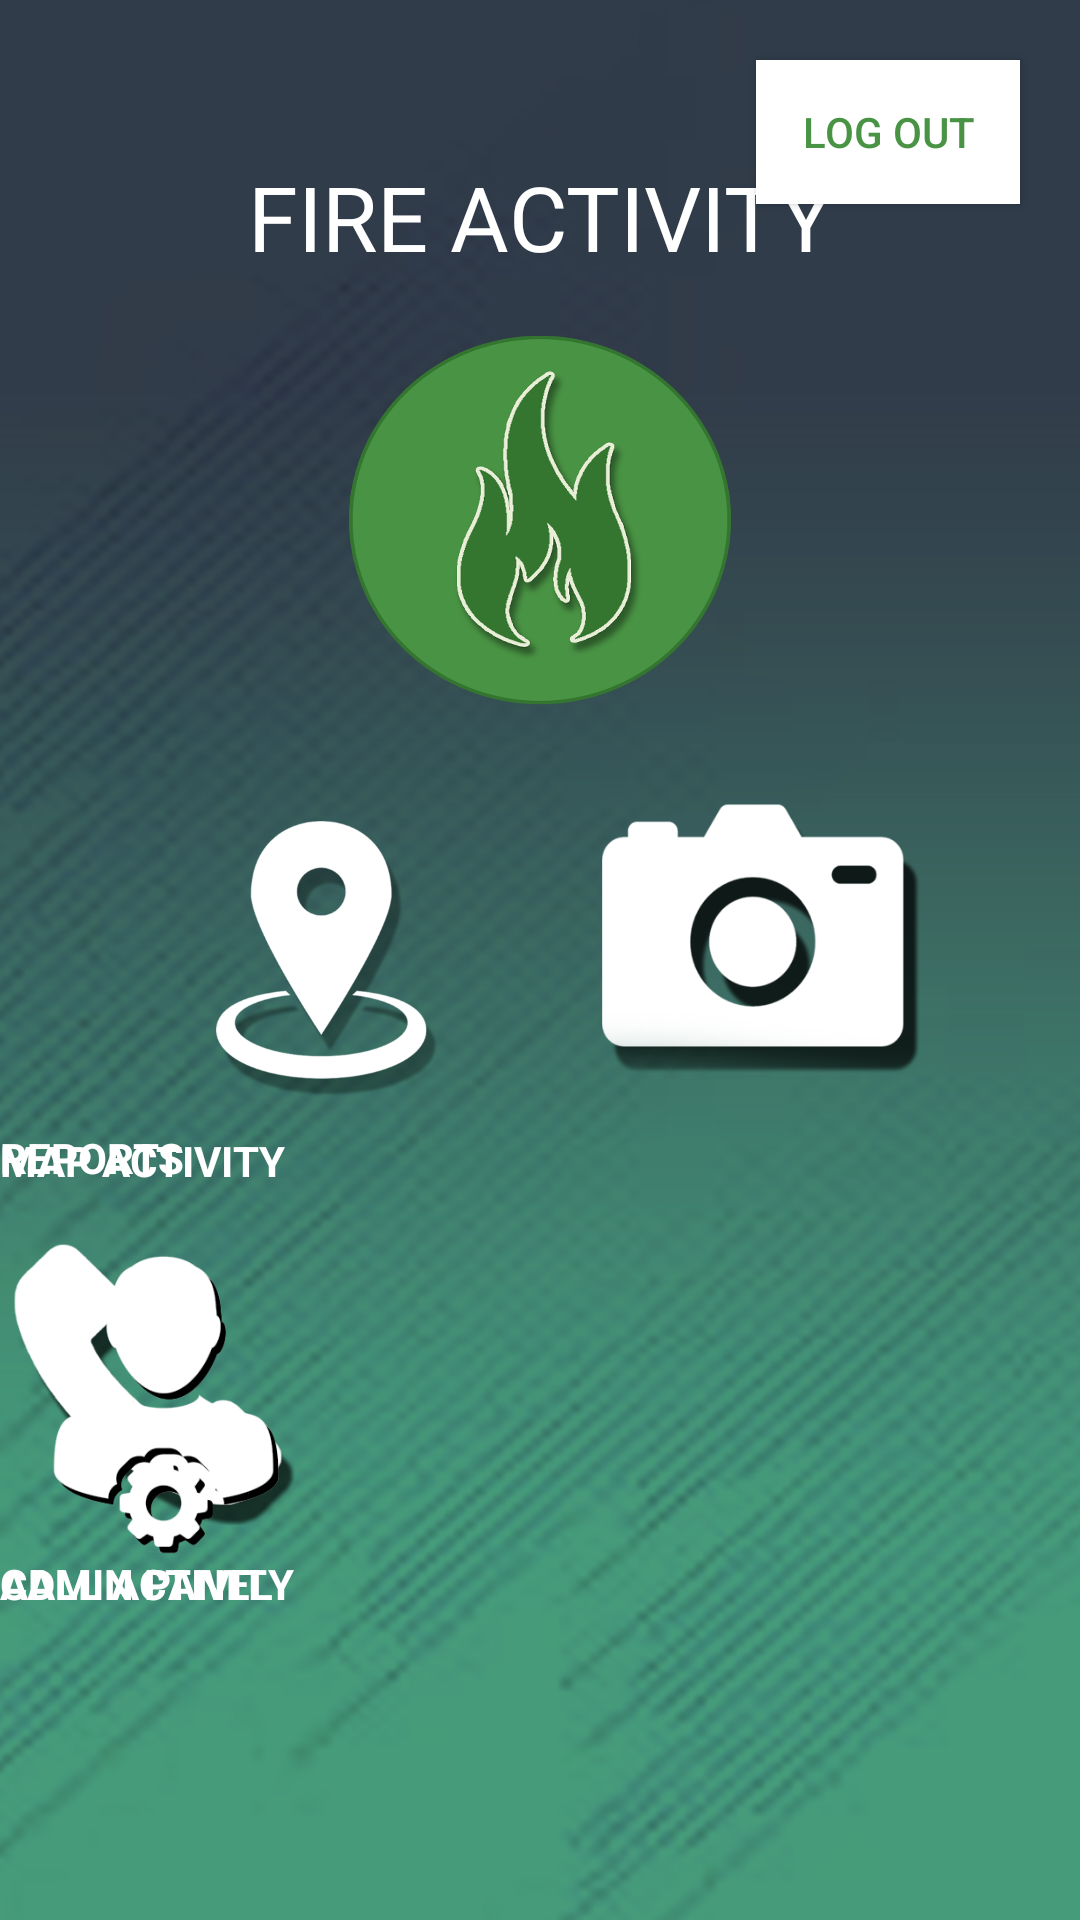

Locate icon controls on the screen. Image size 1080*1920, boxes as (x1, y1, x2, y2).
locate: (161, 787, 482, 1102)
